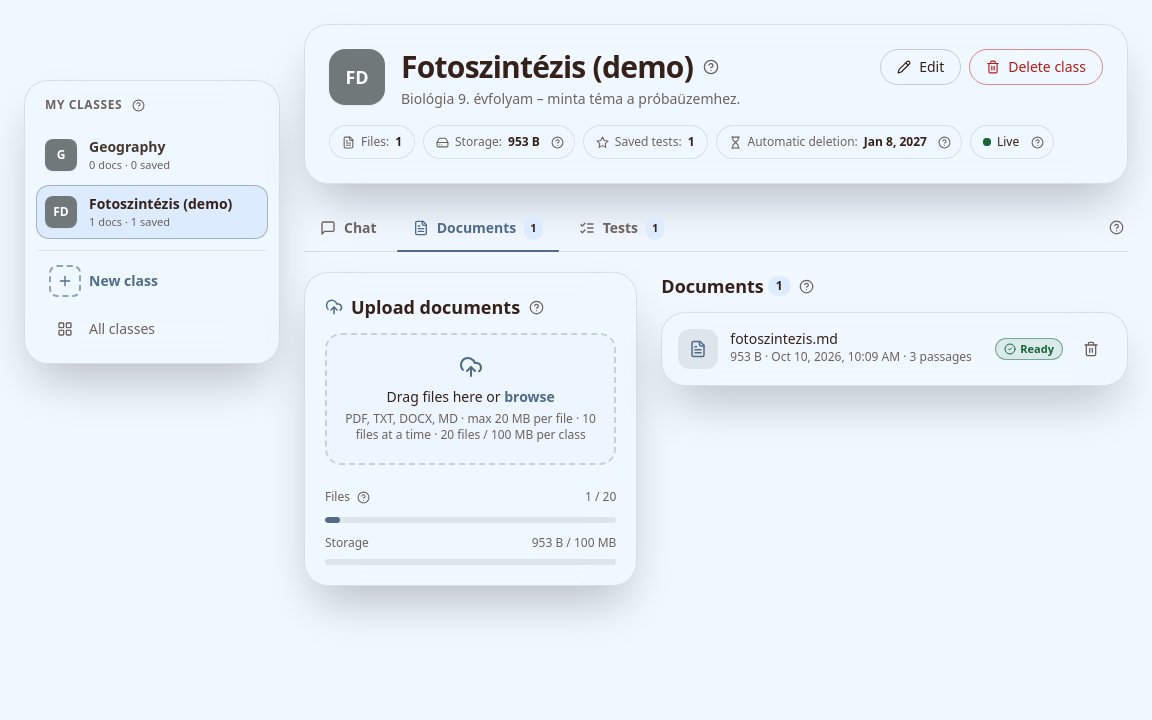
TopicWorkspace class switcher › lists every class and switches class while keeping the current tab
Expected: the heading "Fotoszintézis (demo)" is shown, [401,49,693,85]
Click the link "G Geography 0 docs · 0 saved": (107, 154) [45,137,170,172]
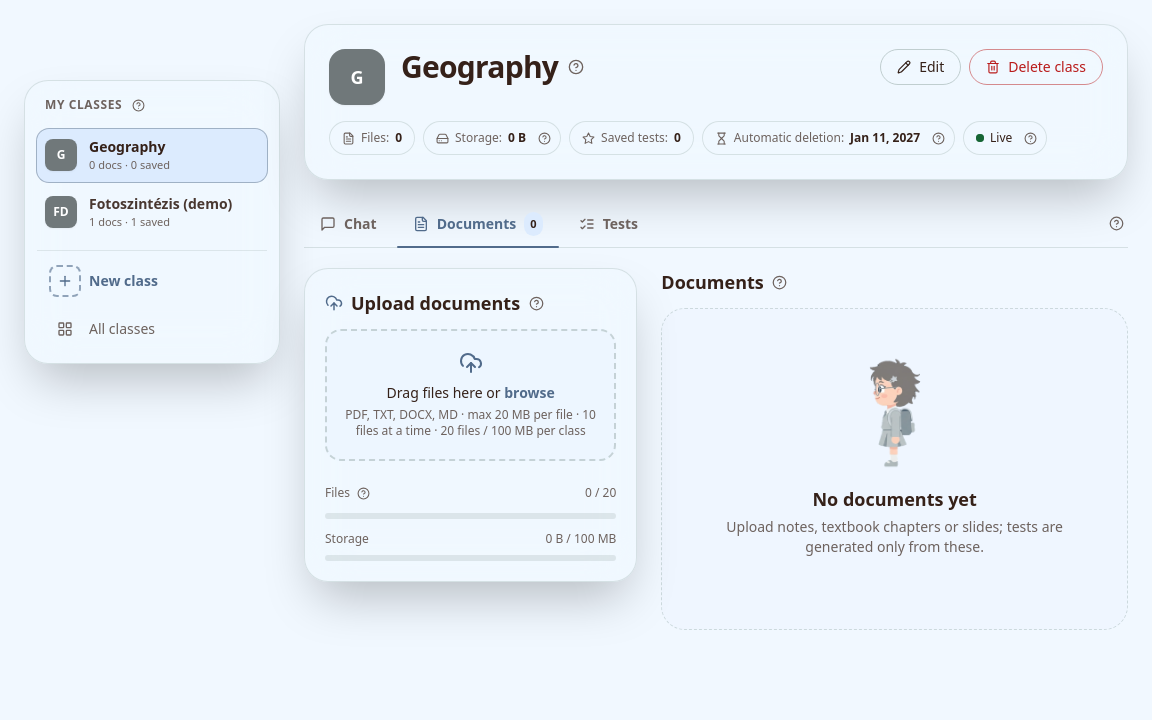
Expected: the heading "Geography" is shown, [401,49,558,85]
